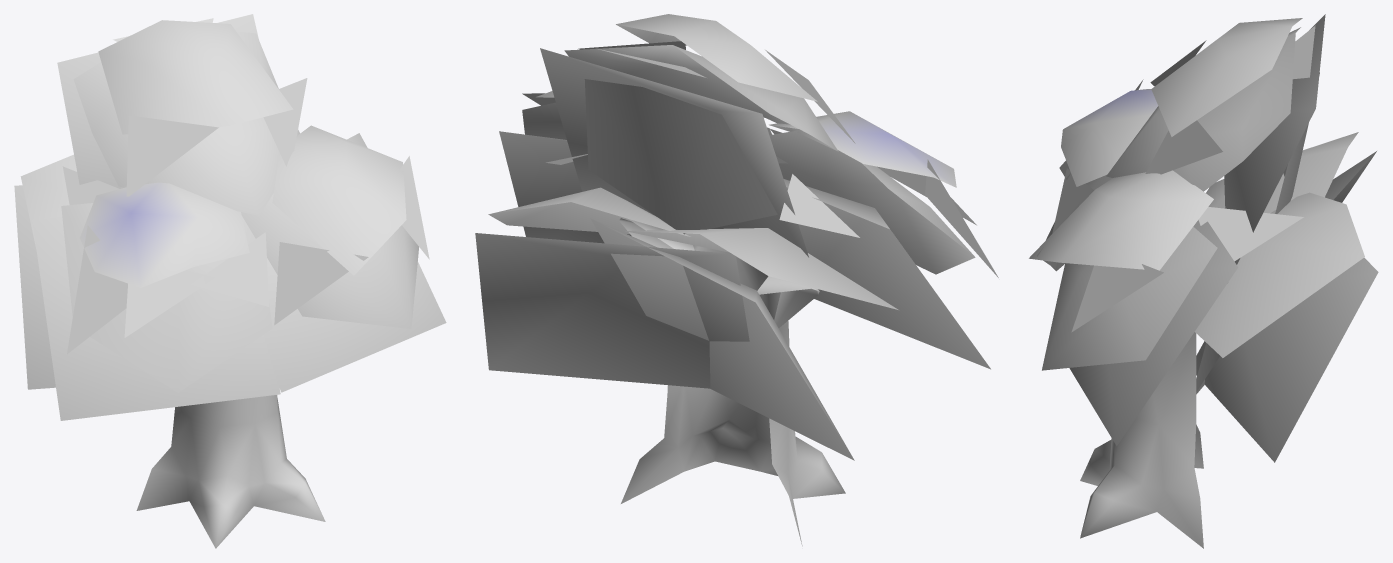
3 renders of one model, left to right at view 1: azimuth 30°, elevation 25°; view 2: azimuth 150°, elevation 25°; view 3: azimuth 270°, elevation 25°, orthographic. The views are drawn at different scales.
Visible parts, largest first — view 1: vsn_mesh_0_; view 2: vsn_mesh_0_; view 3: vsn_mesh_0_.
Part boxes in pixels (bbox=[...]): vsn_mesh_0_: bbox=[14, 14, 446, 548]; vsn_mesh_0_: bbox=[475, 14, 998, 546]; vsn_mesh_0_: bbox=[1029, 14, 1378, 548].
Size of the model in its own units: 78.71 by 86.57 by 57.44.
